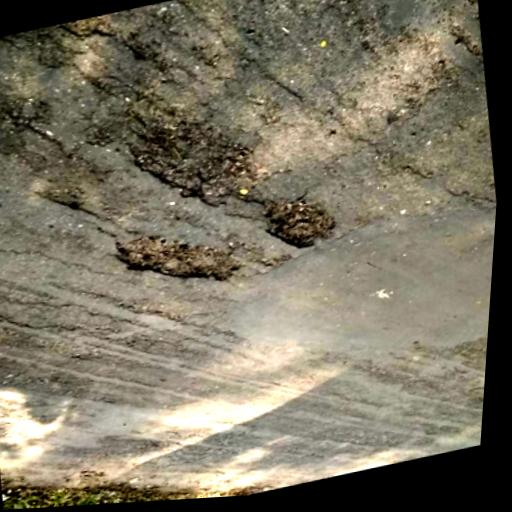pothole: (119, 102, 270, 225), (107, 213, 250, 307), (256, 184, 344, 259)
